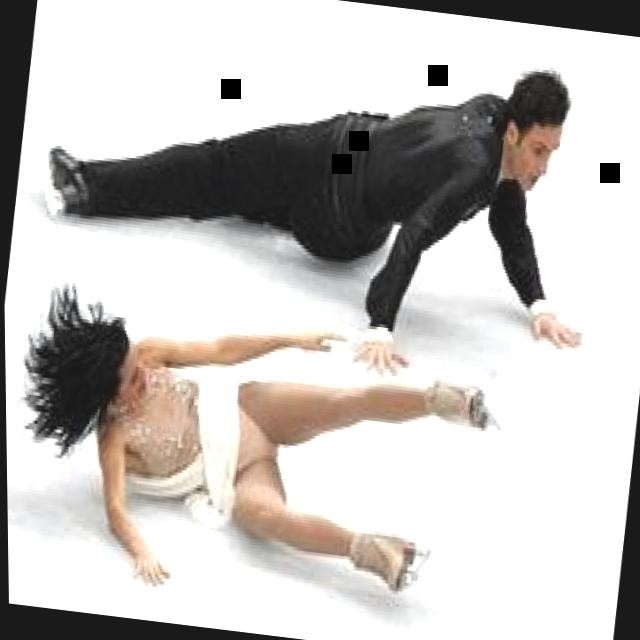Fall-Detected: (3, 0, 616, 361)
